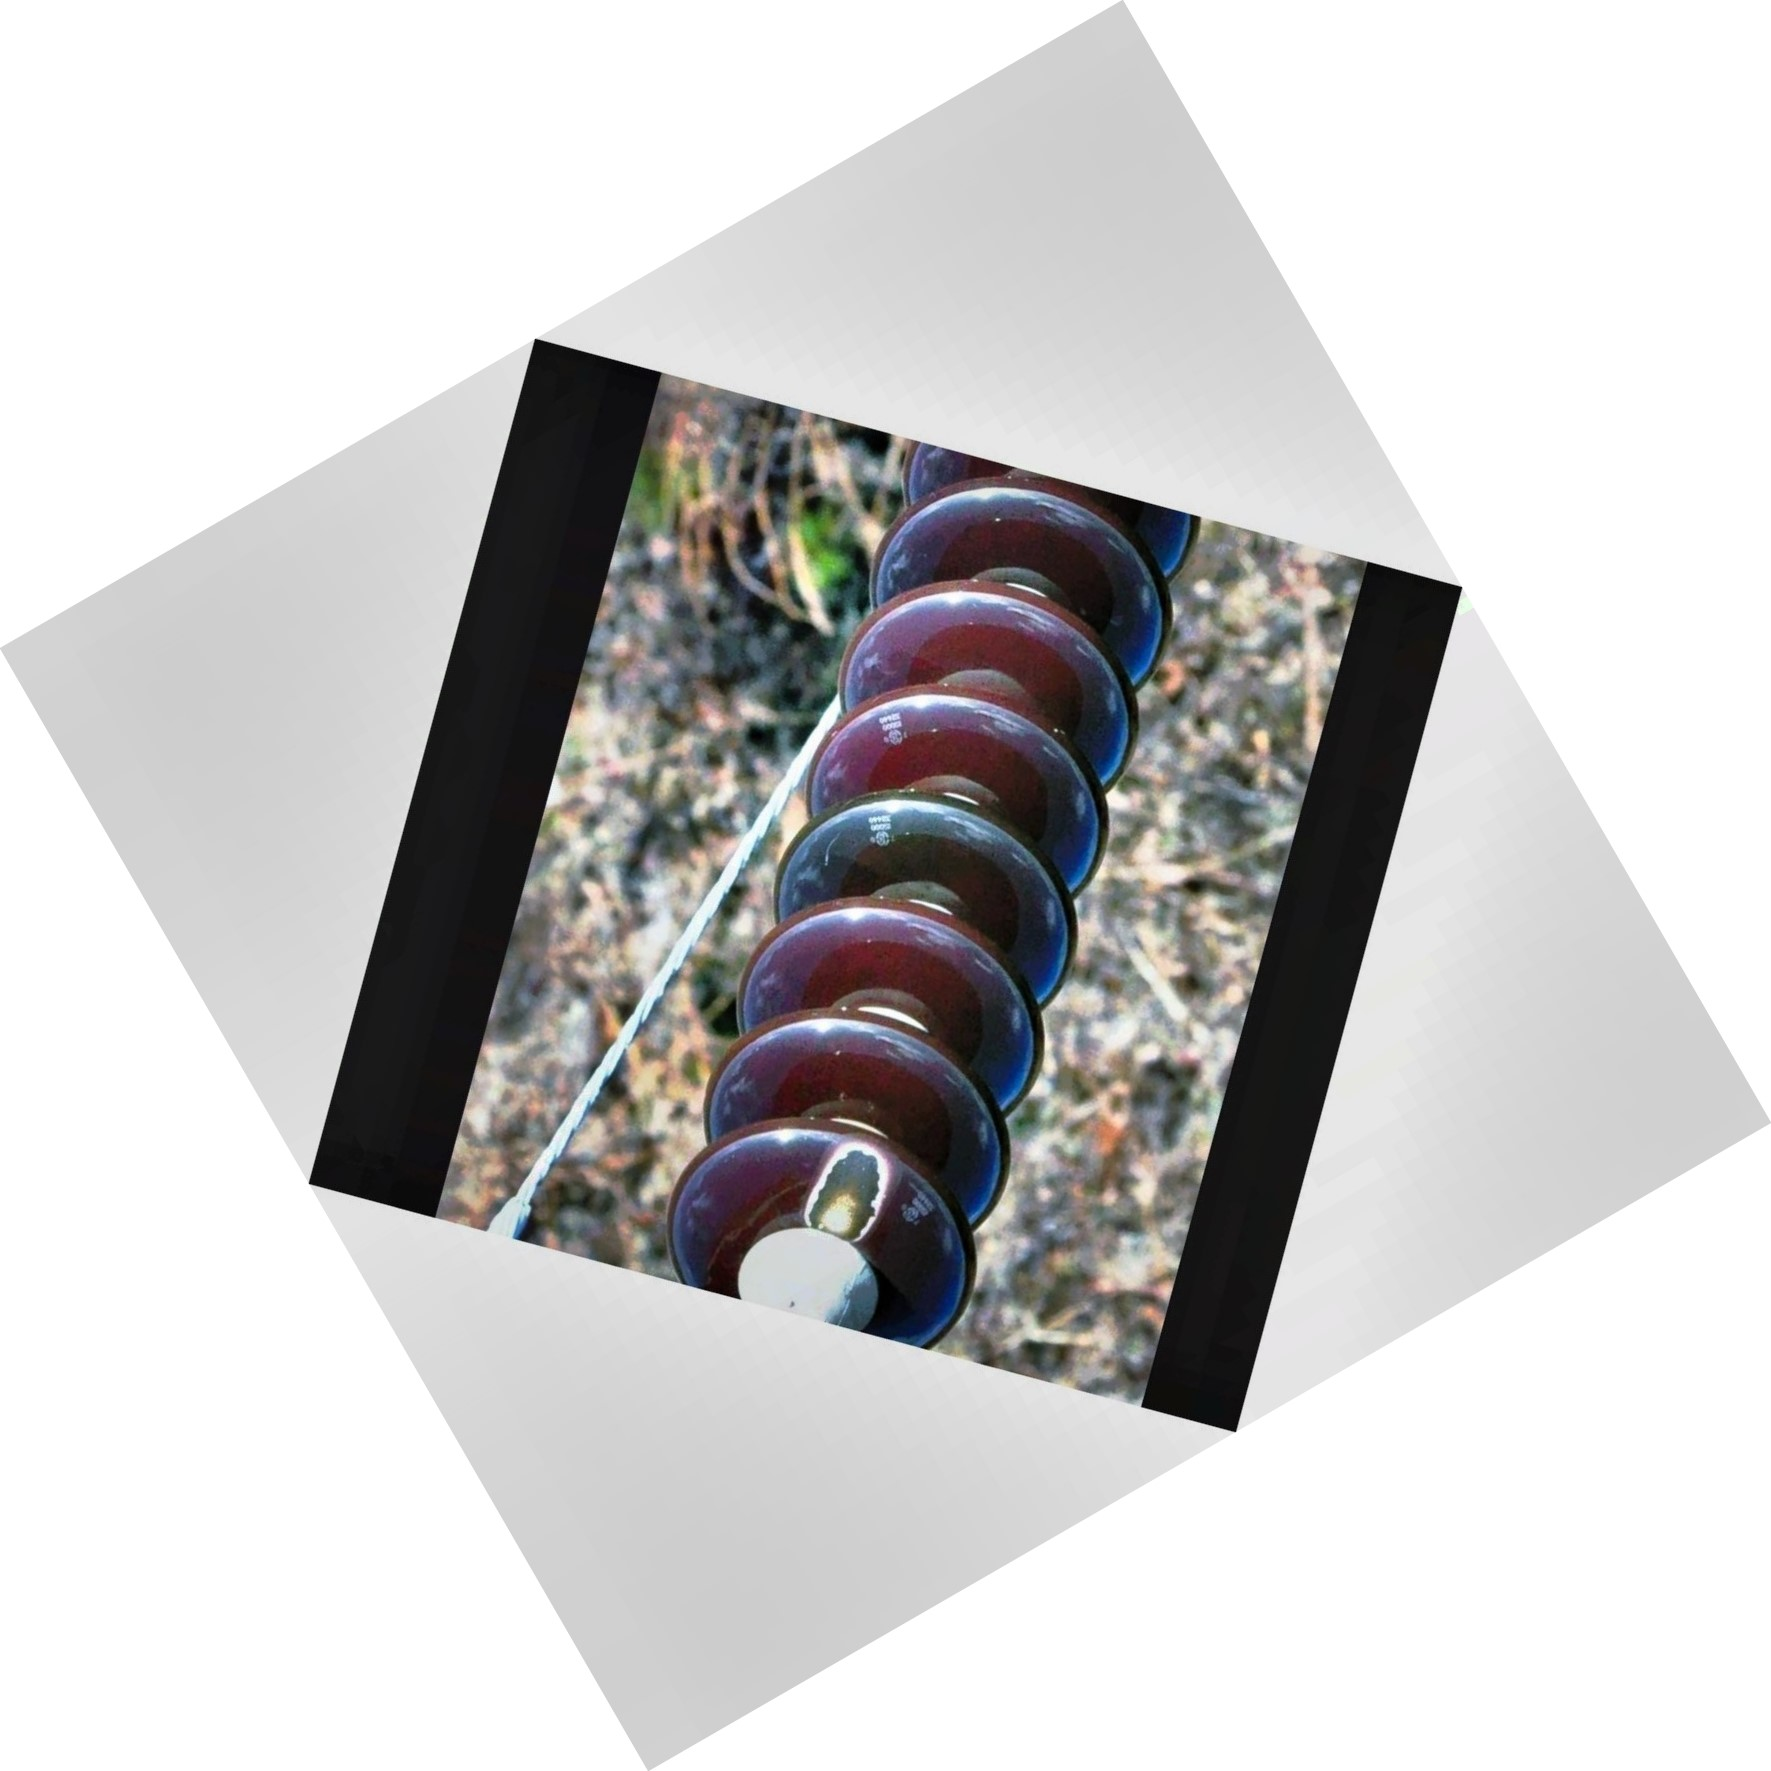Insulator flashover: (645, 1109, 996, 1366)
